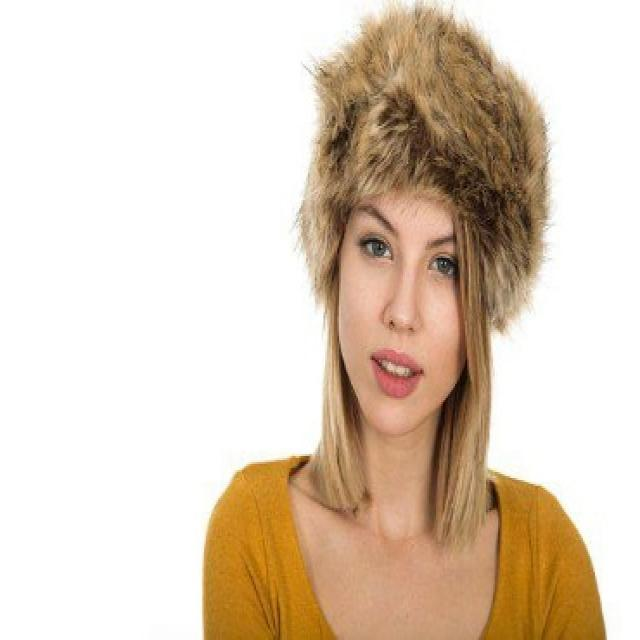adult: (226, 34, 604, 640)
